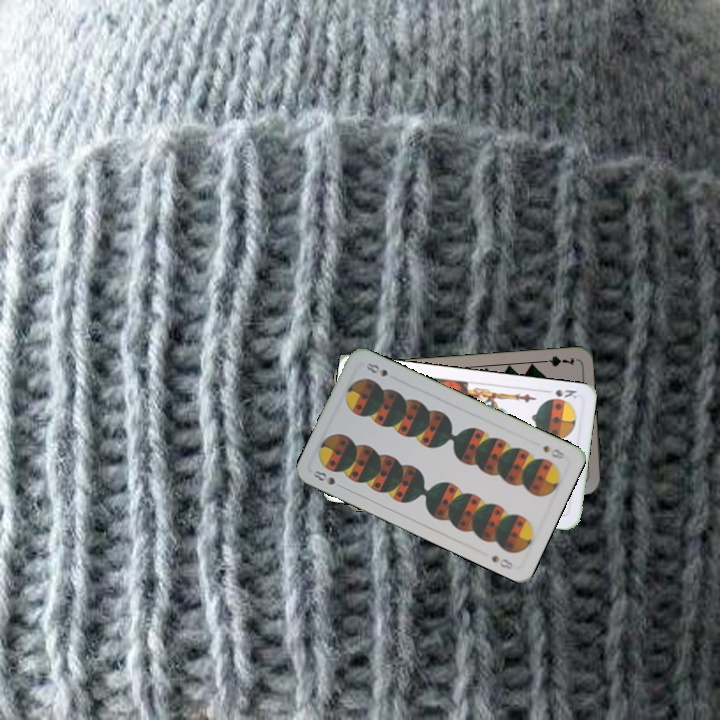G7: (536, 352, 577, 369)
S8: (309, 466, 347, 491), (539, 441, 568, 462)
SK: (551, 385, 579, 401)
